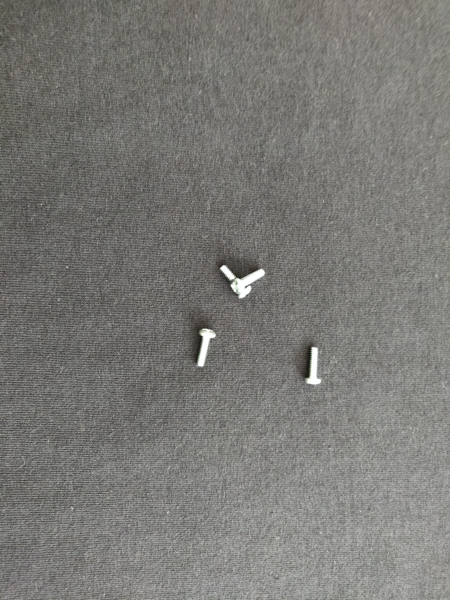shortscrew: (187, 319, 217, 379), (211, 258, 251, 295), (300, 336, 325, 394), (225, 267, 270, 299)
